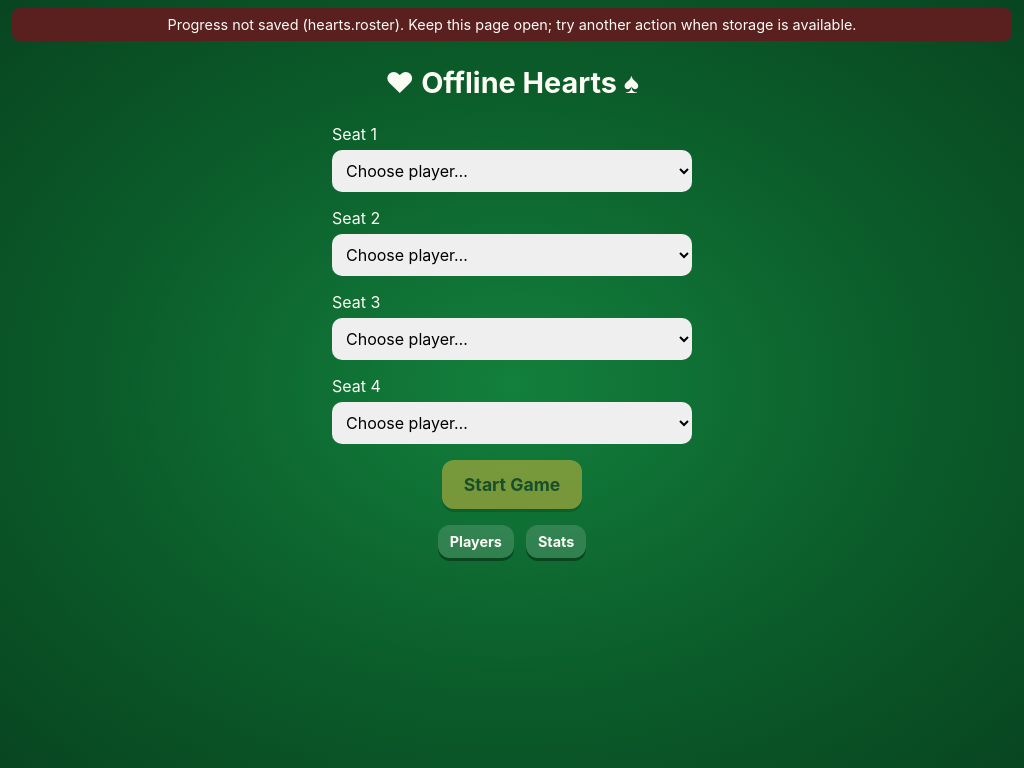
Test: App › warns when hearts.roster cannot be saved, allows play, and clears warning after recovery
The image size is (1024, 768).
Expected: the message shows "not saved", [168,16,308,33]
Expected: the button "Start Game" is shown, [442,460,582,509]
Select "+ New player…" in the dropdown labelled "Seat 1" at (512, 171), box [332,150,692,192]
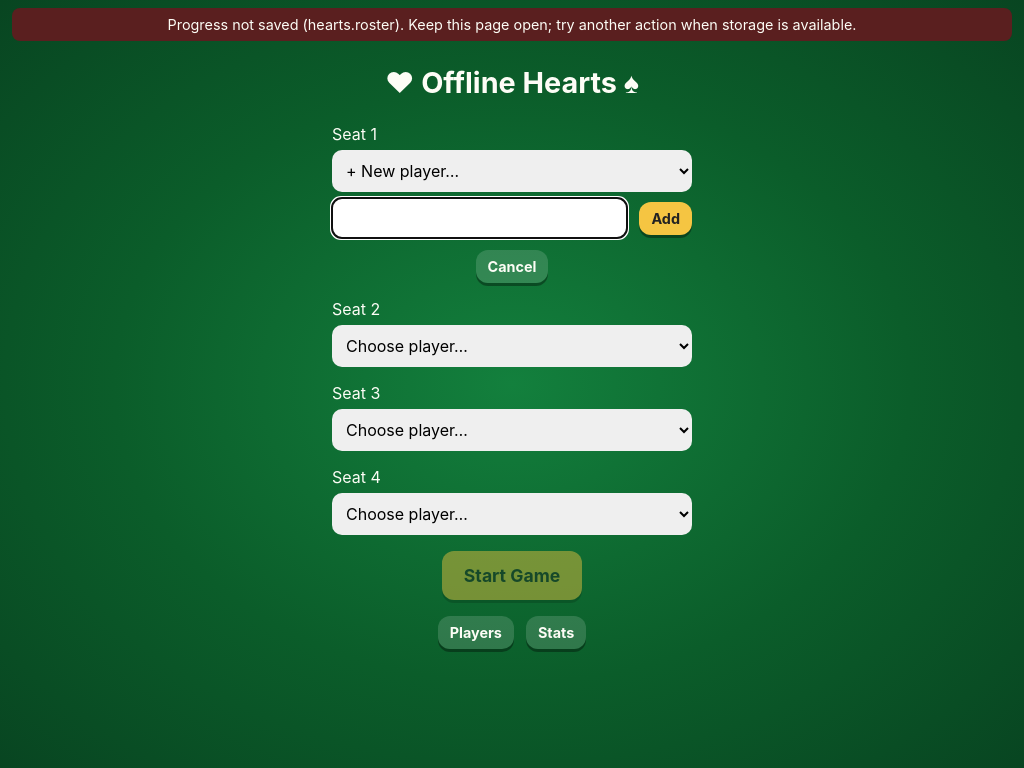
Type "Ann" into the field named "New player name" at (480, 218), box [332,198,627,238]
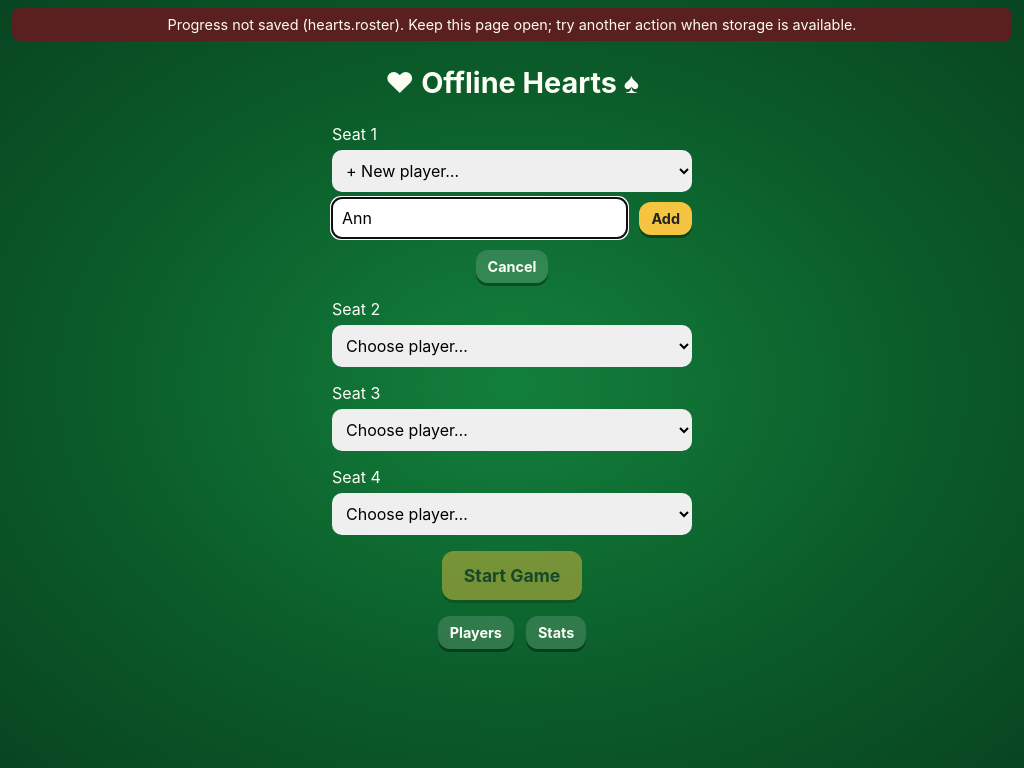
Click the button "Add" at (666, 218), box [639,202,692,234]
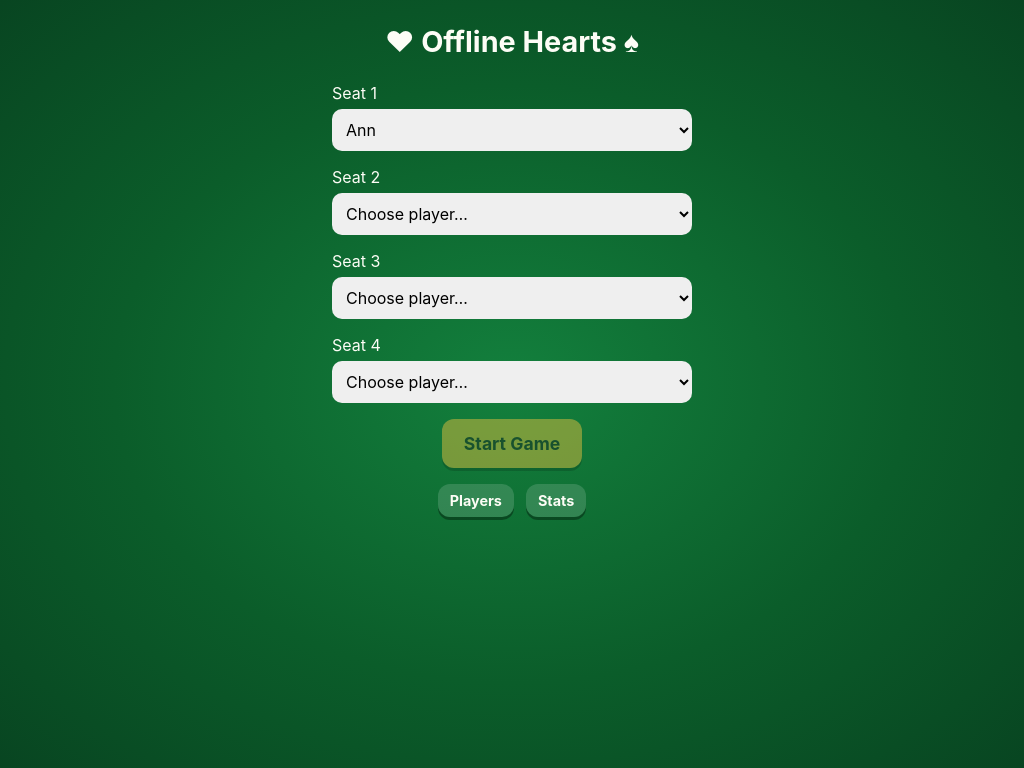
Result: the message is gone
